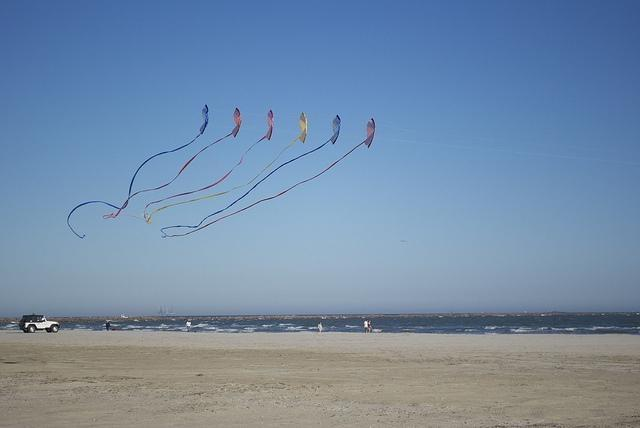truck: (20, 315, 60, 333)
